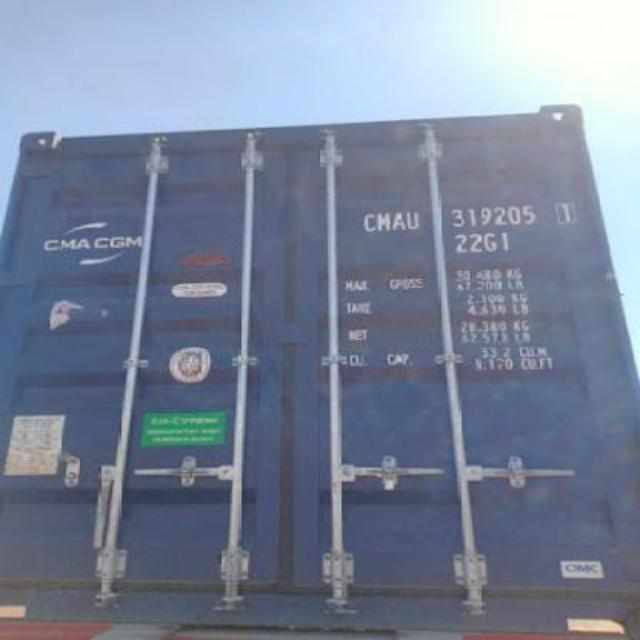0: (508, 200, 522, 228)
1: (554, 196, 578, 222), (462, 203, 478, 227)
2: (492, 204, 506, 228)
3: (446, 204, 466, 230)
5: (522, 202, 536, 225)
9: (476, 200, 492, 230)
A: (392, 206, 406, 234)
C: (358, 207, 376, 237)
M: (376, 210, 389, 234)
U: (404, 206, 422, 232)
